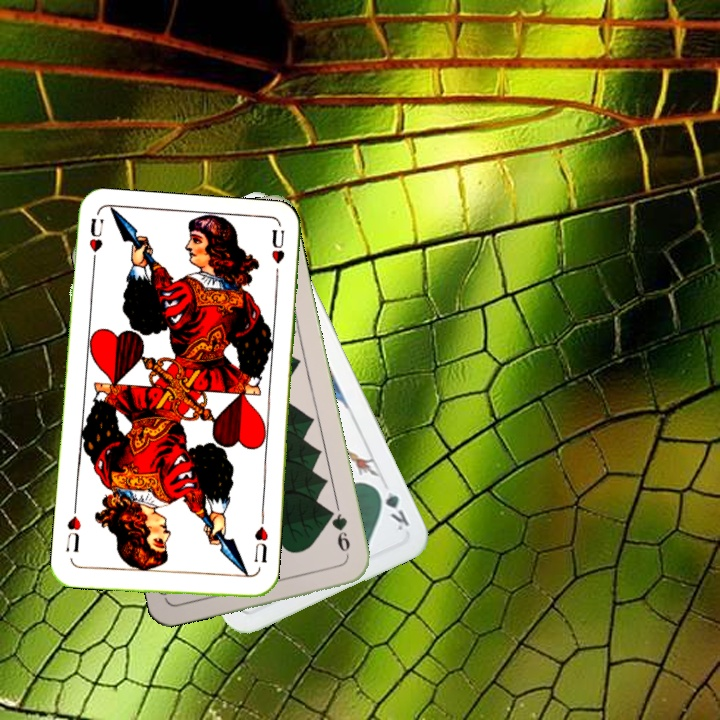G9: (324, 504, 353, 555)
GK: (371, 482, 412, 533)
HU: (85, 214, 106, 272), (250, 522, 271, 565)
